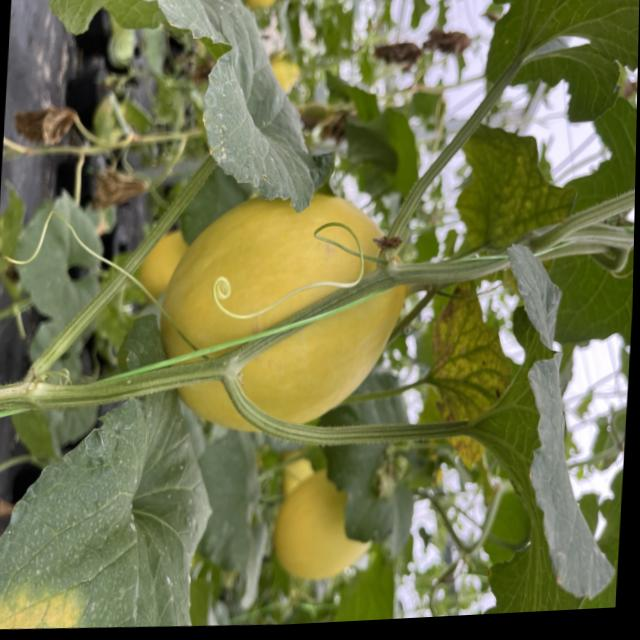downy mildew: (45, 0, 326, 221), (0, 376, 227, 637), (478, 231, 626, 614)
